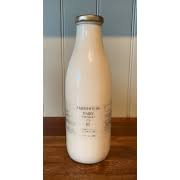milk: (65, 15, 115, 165)
